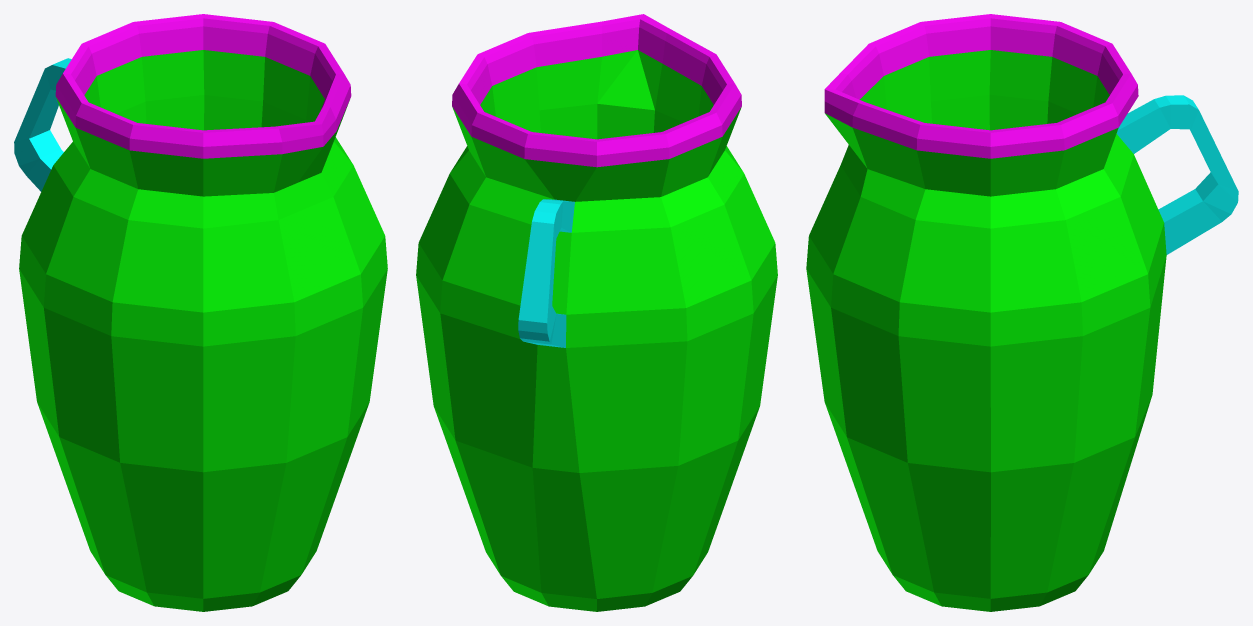
File: POT_5.fbx
3 views of the same model, side by side, from view 1: azimuth 30°, elevation 25°; view 2: azimuth 150°, elevation 25°; view 3: azimuth 270°, elevation 25° (orthographic).
Visible parts, largest first — view 1: POTERIE_5; view 2: POTERIE_5; view 3: POTERIE_5.
Part boxes in pixels (x1=…): POTERIE_5: x1=14, y1=14, x2=387, y2=611; POTERIE_5: x1=416, y1=14, x2=777, y2=611; POTERIE_5: x1=806, y1=14, x2=1238, y2=611.
Bounding box in the file's own units: 30.14 × 46.13 × 35.34.
